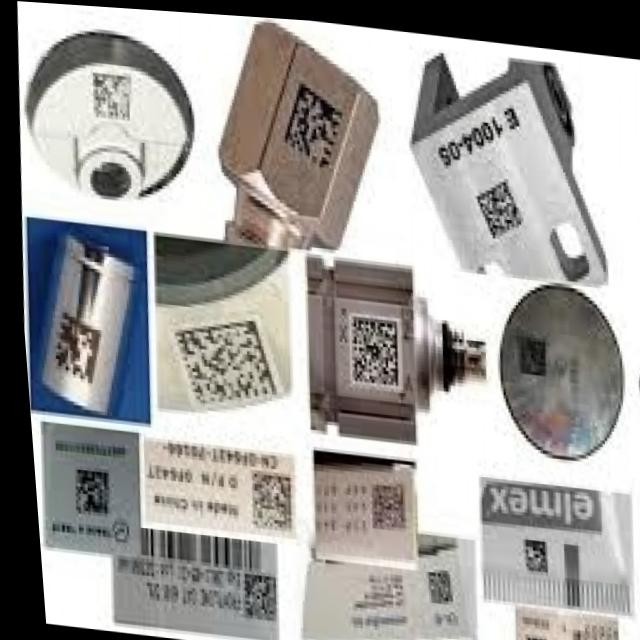datamatrix: (155, 301, 284, 420), (273, 67, 351, 176), (334, 300, 402, 391), (41, 303, 105, 394), (461, 164, 529, 243), (236, 459, 292, 539), (82, 64, 138, 127), (60, 458, 110, 524), (228, 563, 275, 629), (356, 472, 406, 534), (506, 322, 548, 377), (510, 525, 549, 577), (412, 559, 451, 607), (507, 616, 544, 640)
